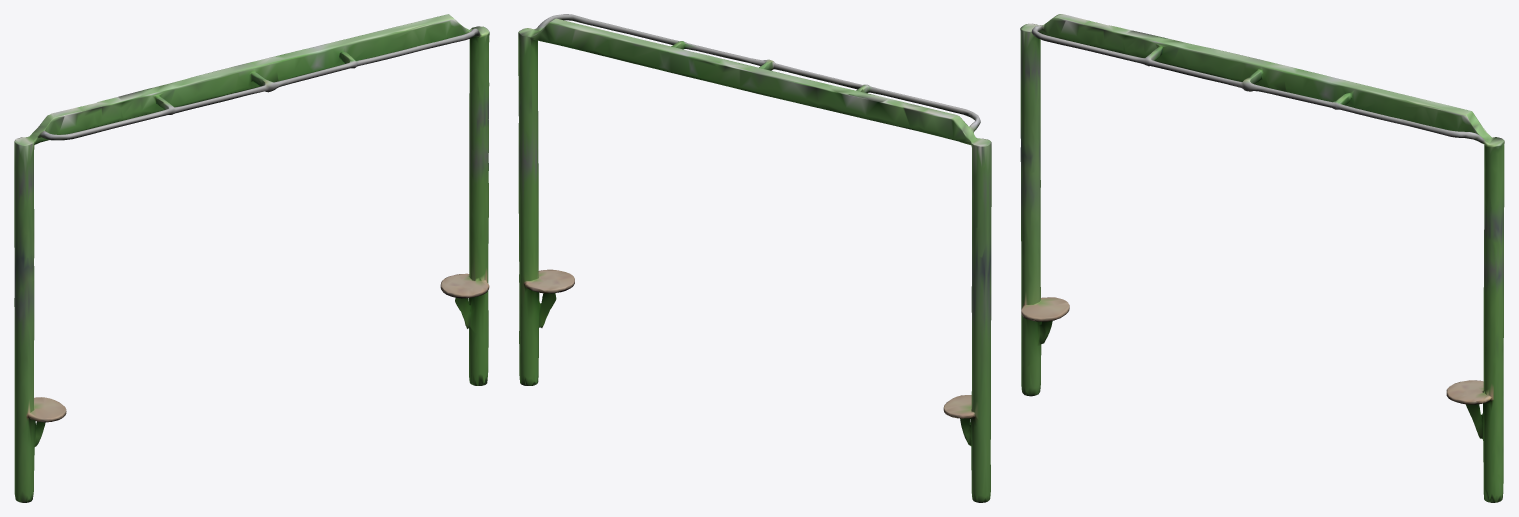
3 views of the same model, side by side, from view 1: azimuth 30°, elevation 25°; view 2: azimuth 150°, elevation 25°; view 3: azimuth 330°, elevation 25° (orthographic). The views are drawn at different scales.
Parts seen in each view (by area): view 1: bar-green-edge; view 2: bar-green-edge; view 3: bar-green-edge.
Part boxes in pixels (box(x1,y1,x2,y2)): bar-green-edge: box(14, 14, 489, 502); bar-green-edge: box(518, 14, 991, 502); bar-green-edge: box(1020, 14, 1504, 502).
Size of the model in its own units: 3 by 2.3 by 0.3226.
